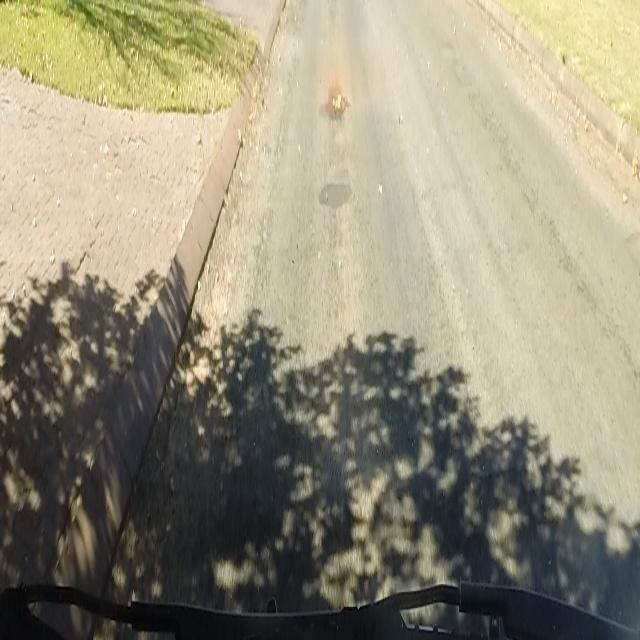pothole: (325, 84, 349, 120)
